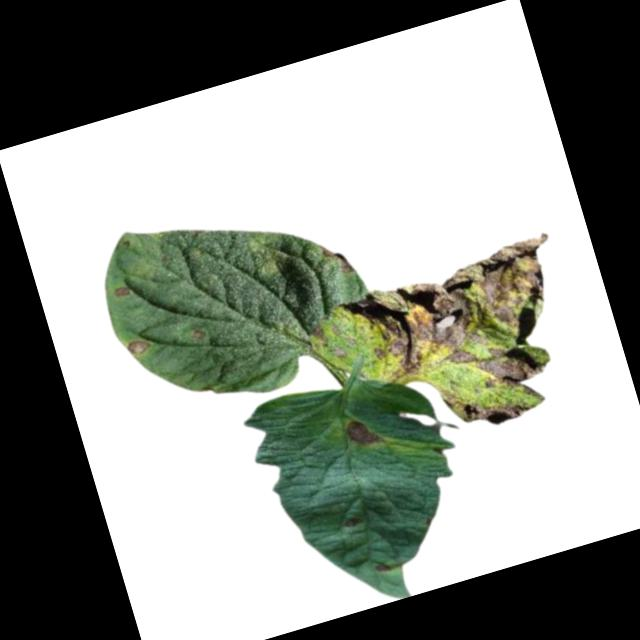Early_blight: (335, 231, 586, 424), (461, 382, 535, 433), (342, 412, 383, 453), (319, 238, 354, 278), (123, 332, 154, 361), (309, 319, 329, 345), (372, 557, 392, 577), (340, 514, 361, 531), (112, 283, 130, 298)
